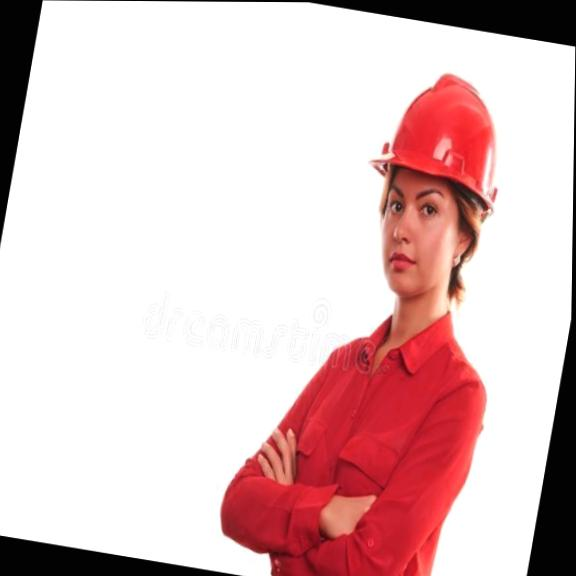no_safety_vest: (256, 309, 494, 576)
